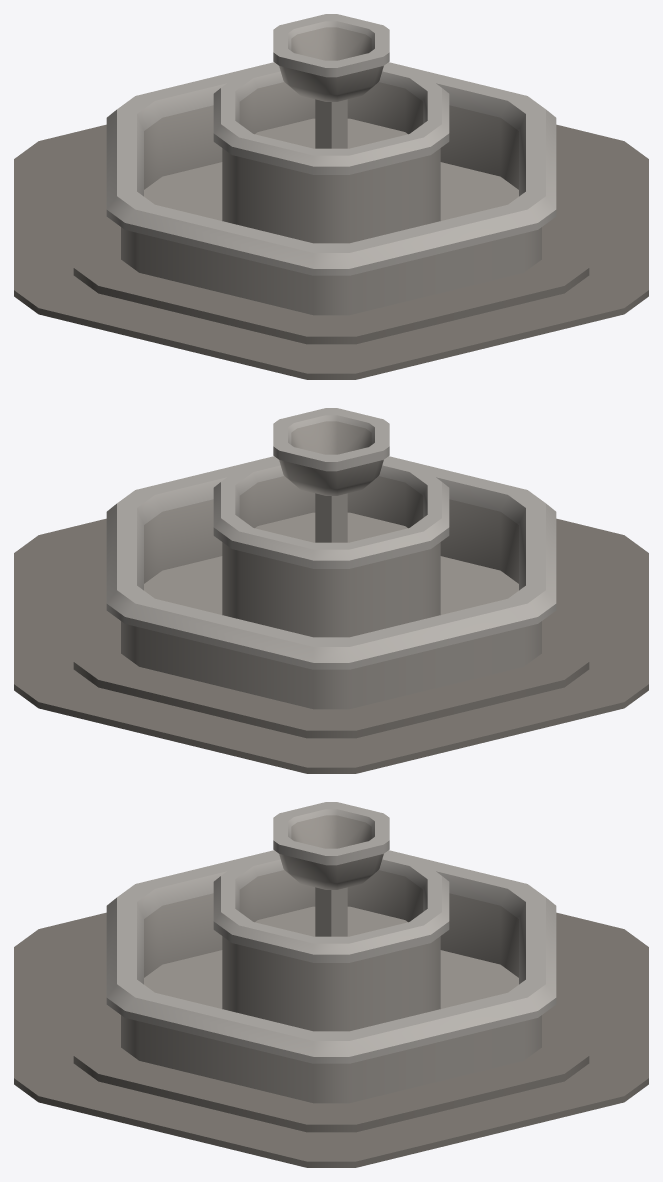
Rendered from Fountain 01.FBX.
The picture shows the model from 3 angles, top to bottom: view 1: azimuth 30°, elevation 25°; view 2: azimuth 150°, elevation 25°; view 3: azimuth 270°, elevation 25°; orthographic projection.
Visible parts, largest first — view 1: Fountain 01; view 2: Fountain 01; view 3: Fountain 01.
Part boxes in pixels (x1=…): Fountain 01: x1=14, y1=14, x2=648, y2=379; Fountain 01: x1=14, y1=408, x2=648, y2=773; Fountain 01: x1=14, y1=802, x2=648, y2=1167.
Size of the model in its own units: 454 by 135 by 409.
Materials: 1 (1 with a texture image).
